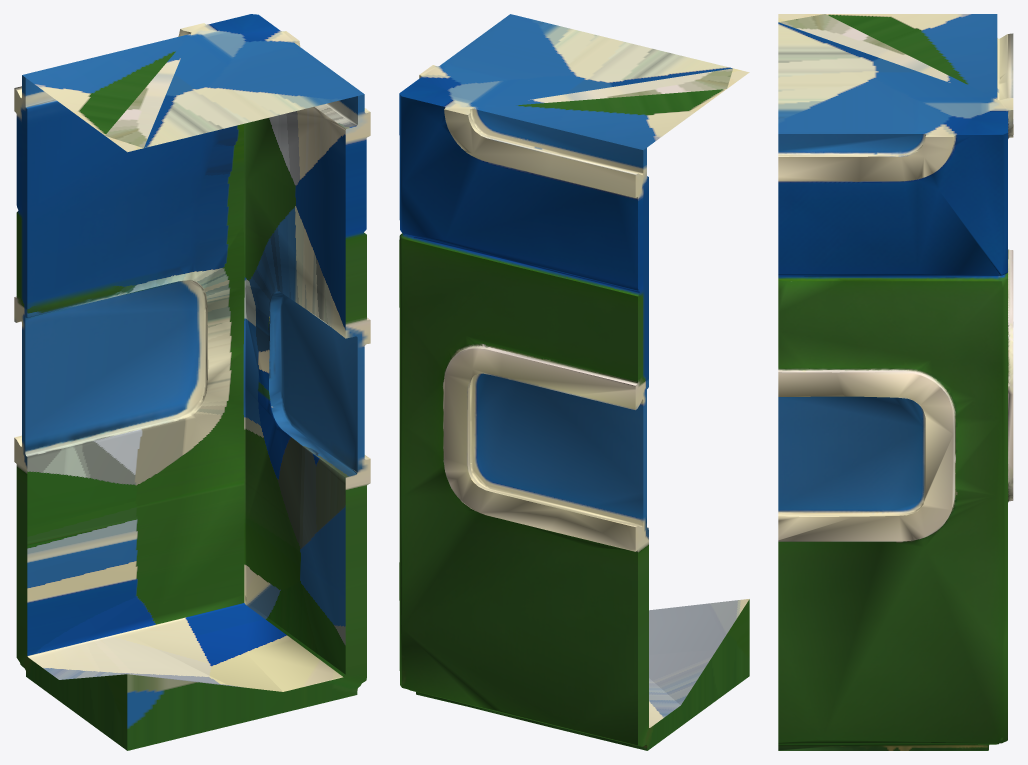
Rendered from 4-ground-floor-back-right.fbx.
3 renders of one model, left to right at view 1: azimuth 30°, elevation 25°; view 2: azimuth 150°, elevation 25°; view 3: azimuth 270°, elevation 25°, orthographic. The views are drawn at different scales.
Visible parts, largest first — view 1: ground-floor-back-right; view 2: ground-floor-back-right; view 3: ground-floor-back-right.
Boxes of the visible parts, x1=… form: ground-floor-back-right: x1=14, y1=14, x2=370, y2=750; ground-floor-back-right: x1=399, y1=14, x2=749, y2=750; ground-floor-back-right: x1=778, y1=14, x2=1013, y2=750.
Bounding box in the file's own units: 4806 × 11295 × 3877.
Materials: 1 (1 with a texture image).
